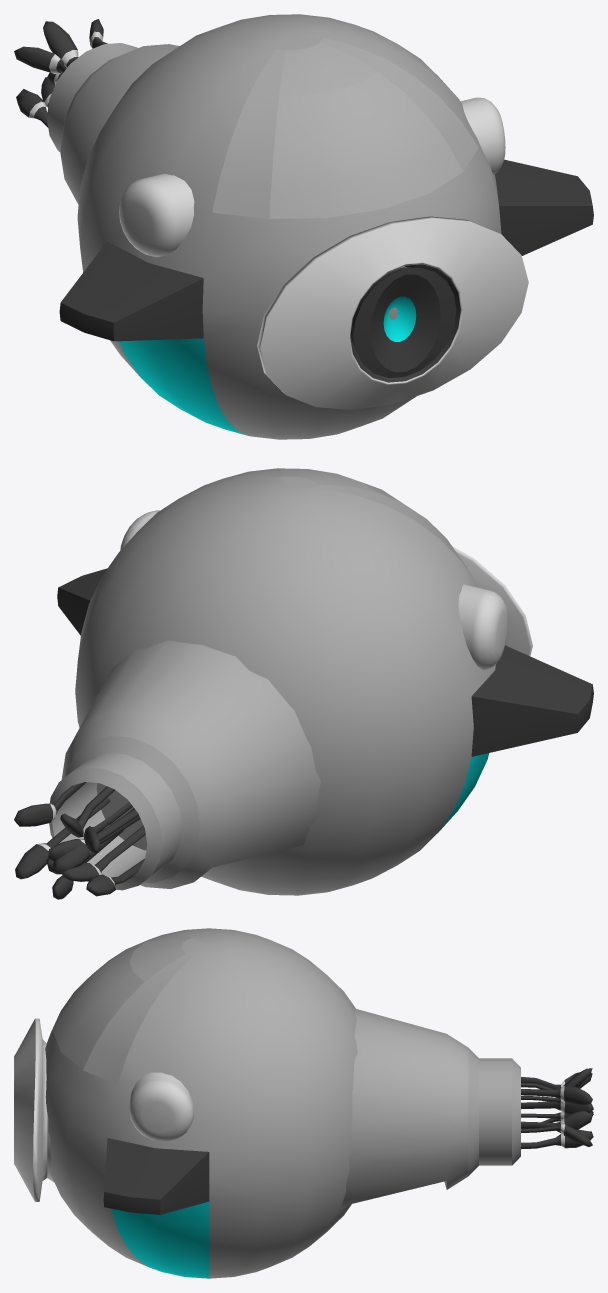
Rendered from bot10.fbx.
3 views of the same model, one above another, from view 1: azimuth 30°, elevation 25°; view 2: azimuth 150°, elevation 25°; view 3: azimuth 270°, elevation 25° (orthographic). The views are drawn at different scales.
Visible parts, largest first — view 1: pCylinder4; view 2: pCylinder4; view 3: pCylinder4.
Part boxes in pixels (x1,y1,x2,y2): pCylinder4: [14, 14, 593, 439]; pCylinder4: [14, 468, 593, 899]; pCylinder4: [14, 928, 593, 1278].
Size of the model in its own units: 136 by 96.28 by 159.
